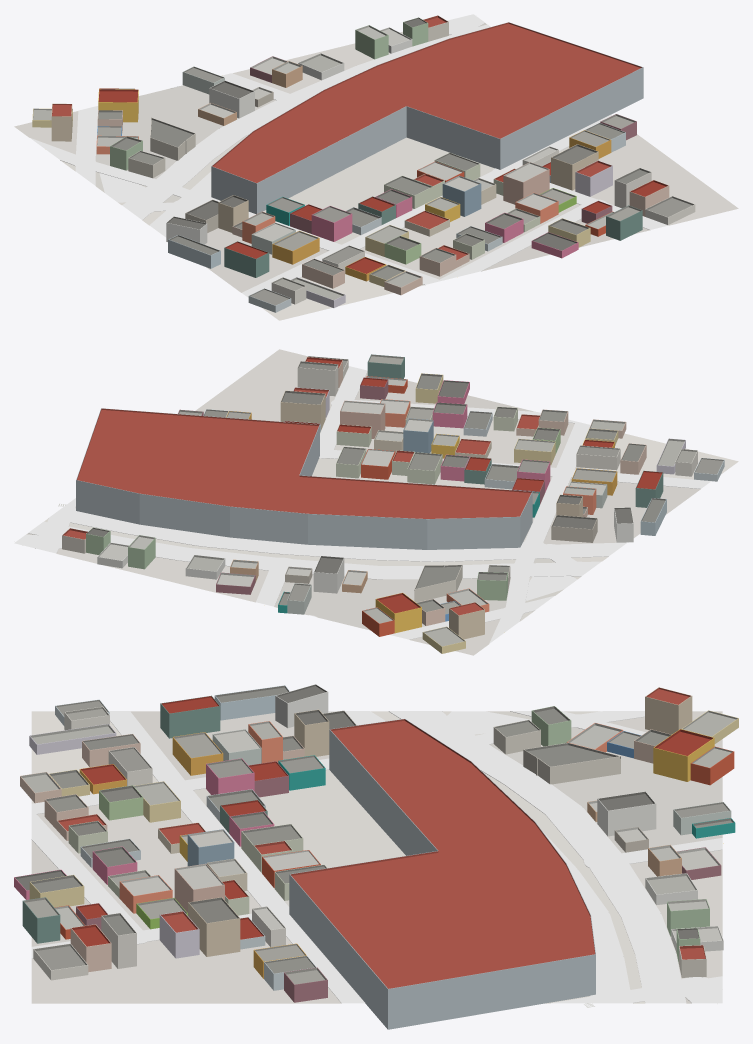
The picture shows the model from 3 angles, top to bottom: view 1: azimuth 30°, elevation 25°; view 2: azimuth 150°, elevation 25°; view 3: azimuth 270°, elevation 25°; orthographic projection. The views are drawn at different scales.
Visible parts, largest first — view 1: roofs, walls, ground, sidewalk, grass; view 2: roofs, walls, sidewalk, ground, grass; view 3: roofs, walls, ground, sidewalk, grass.
Boxes of the visible parts, bbox=[...] form: roofs: bbox=[32, 15, 694, 305]; walls: bbox=[32, 22, 695, 312]; ground: bbox=[14, 23, 738, 320]; sidewalk: bbox=[30, 14, 668, 297]; grass: bbox=[99, 173, 145, 202]; roofs: bbox=[62, 354, 724, 646]; walls: bbox=[62, 357, 724, 653]; sidewalk: bbox=[14, 366, 711, 643]; ground: bbox=[26, 349, 738, 655]; grass: bbox=[526, 576, 577, 600]; roofs: bbox=[14, 684, 738, 989]; walls: bbox=[14, 692, 738, 1029]; ground: bbox=[31, 711, 722, 1003]; sidewalk: bbox=[31, 711, 722, 1003]; grass: bbox=[447, 711, 531, 734].
Size of what is drawn, in the model's own units: 280 by 16.18 by 262.
